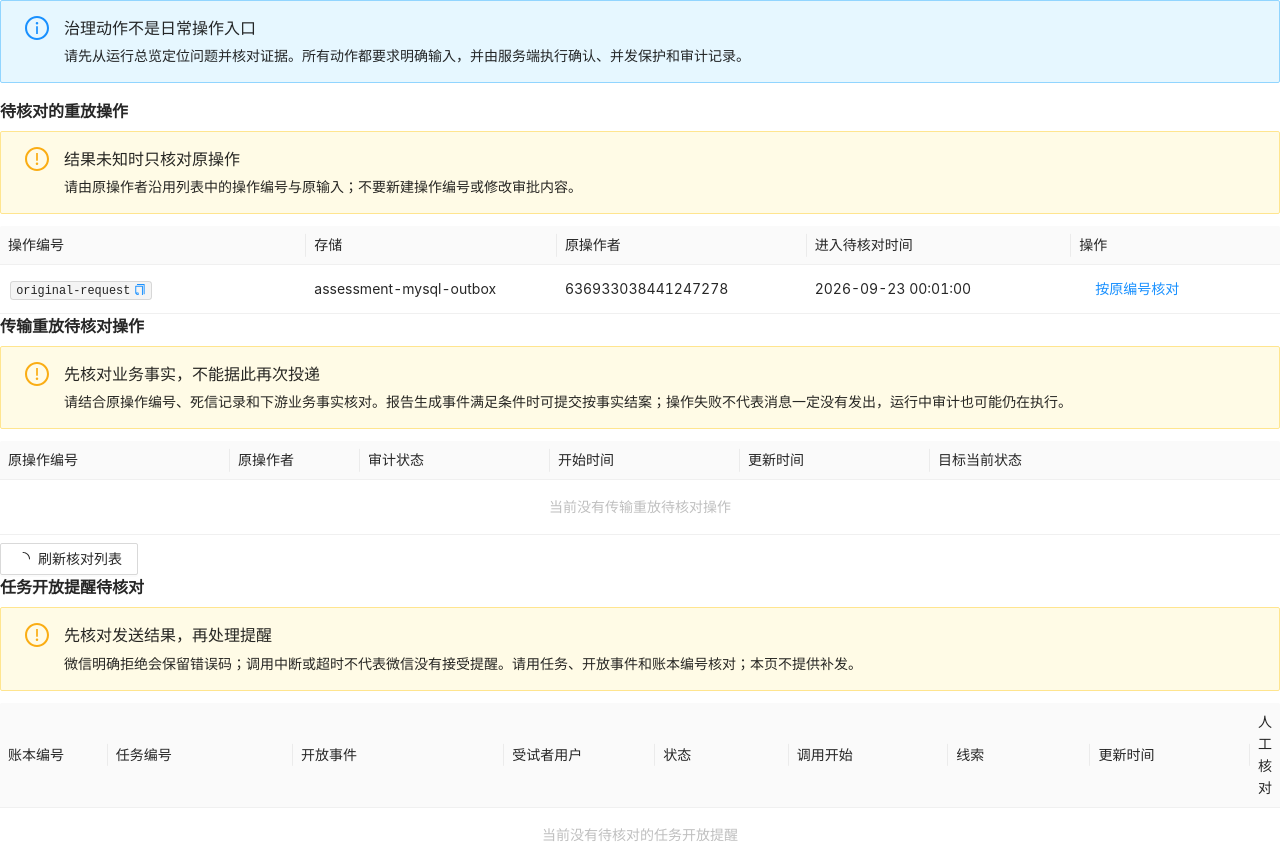
Test: ActionsTab › opens a pending replay with the original request ID and input locked
Expected: the text "original-request" is shown, top-left (10, 280), bottom-right (152, 300)
Click the button "按原编号核对".
click(1137, 289)  # box top-left (1079, 273), bottom-right (1195, 305)
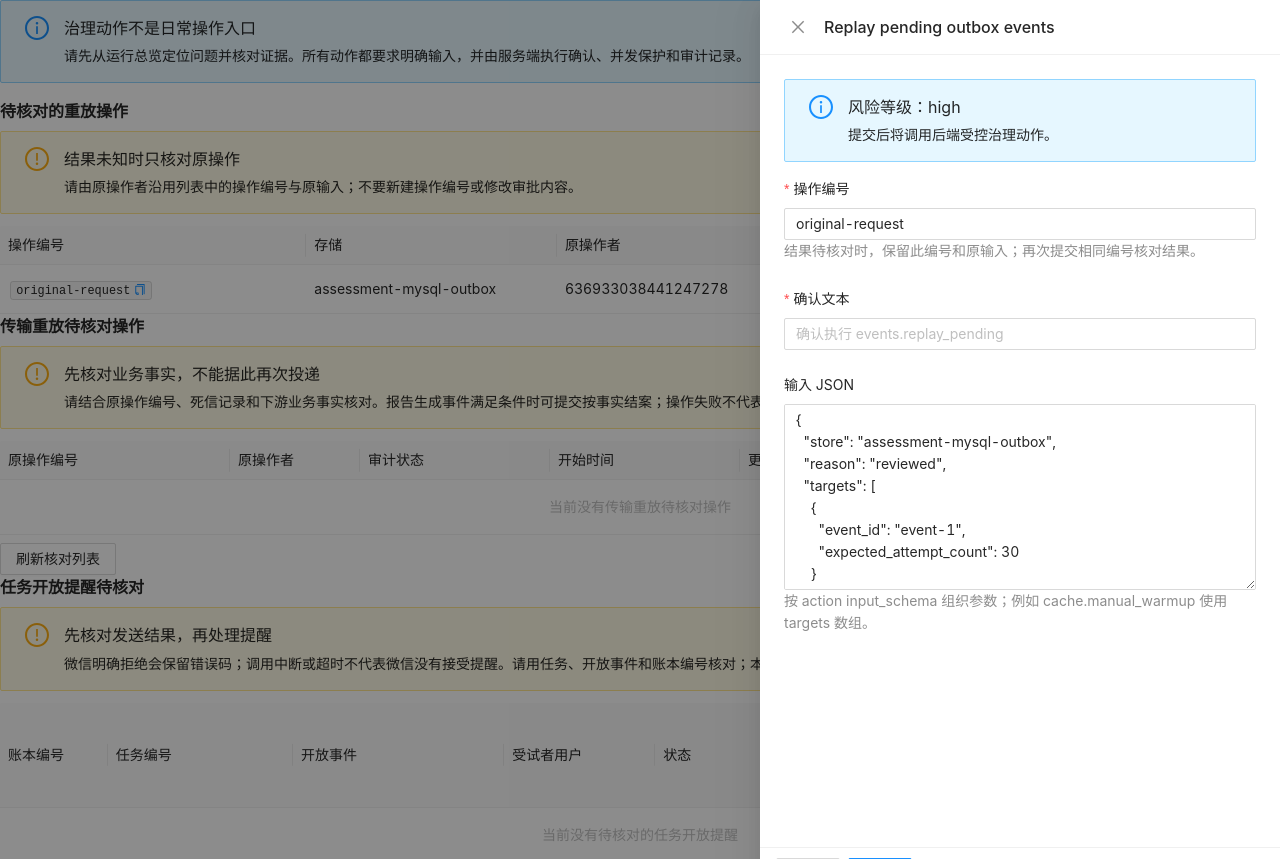
Result: the field with placeholder "本次重放的操作编号" holds "original-request" at top-left (784, 208), bottom-right (1256, 240)
